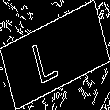L_N: (39, 26, 71, 84)
